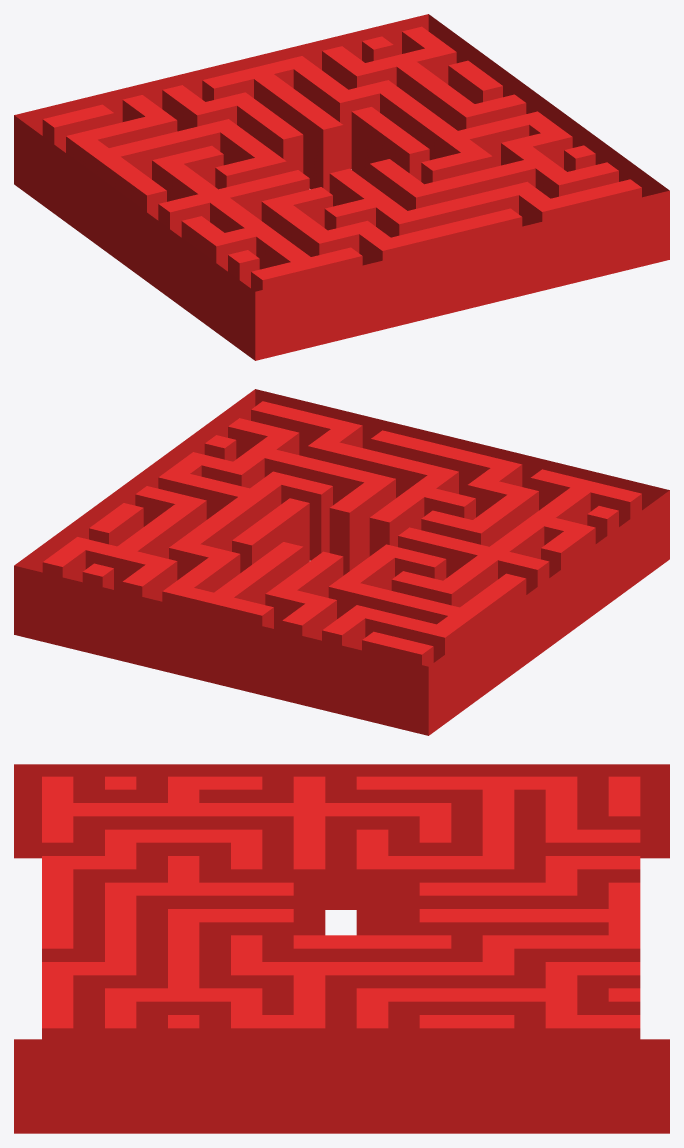
The model's file is Laberinto.FBX.
3 renders of one model, top to bottom at view 1: azimuth 30°, elevation 25°; view 2: azimuth 150°, elevation 25°; view 3: azimuth 270°, elevation 25°, orthographic. The views are drawn at different scales.
Parts seen in each view (by area): view 1: Muros; view 2: Muros; view 3: Muros.
Boxes of the visible parts, bbox=[...] form: Muros: bbox=[14, 14, 669, 360]; Muros: bbox=[14, 389, 669, 735]; Muros: bbox=[14, 764, 669, 1133].
Bounding box in the file's own units: 5268 × 851 × 5309.
